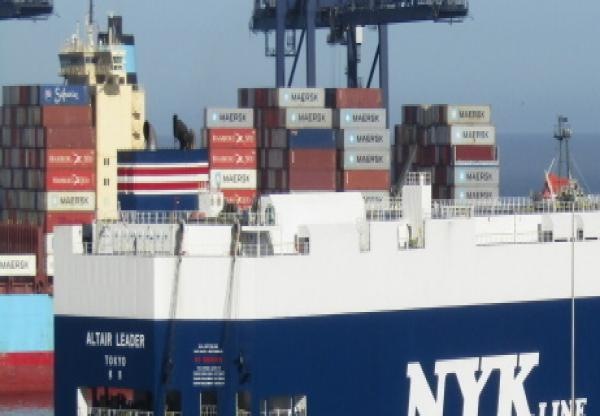Container Ship: (0, 2, 600, 416)
